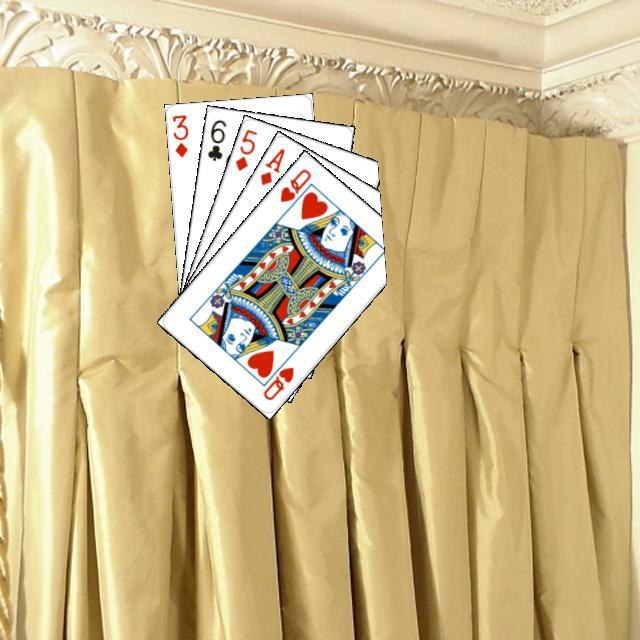3d: (167, 110, 190, 159)
5d: (230, 124, 259, 173)
6c: (203, 114, 228, 163)
Ad: (255, 143, 287, 187)
Qh: (258, 352, 296, 402), (275, 164, 313, 204)
